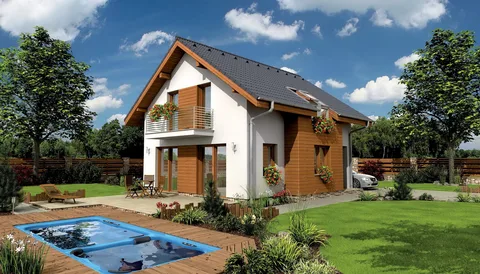private_hause: (143, 39, 357, 195)
